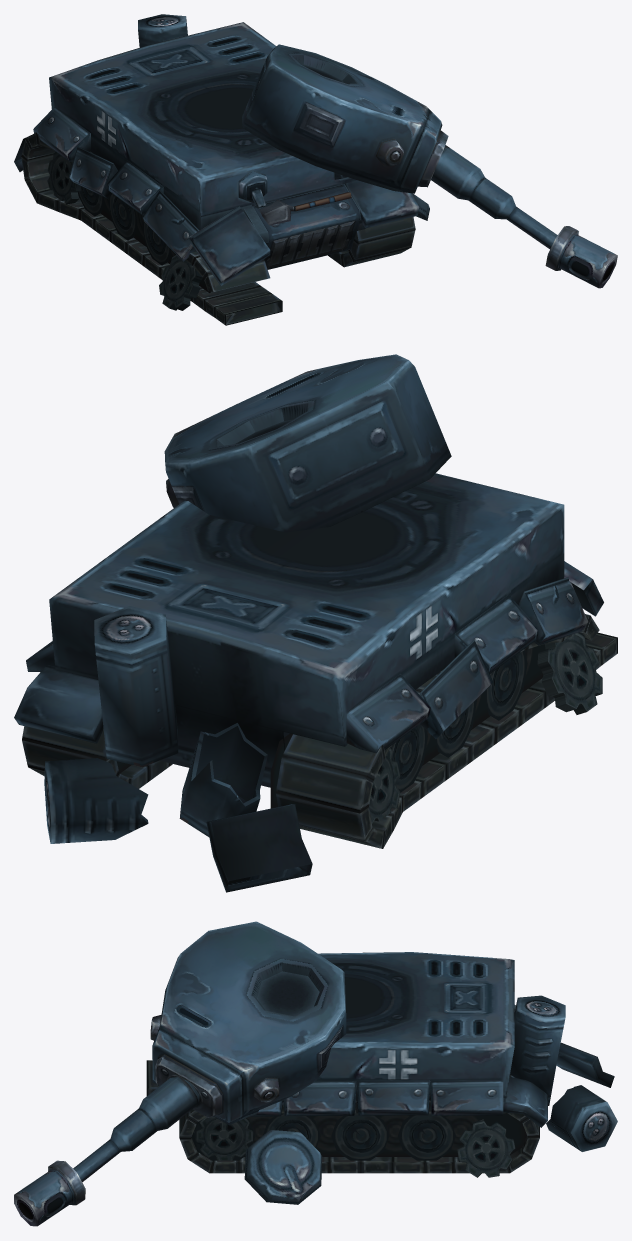
The model's file is T_tank_break_01.fbx.
3 renders of one model, top to bottom at view 1: azimuth 30°, elevation 25°; view 2: azimuth 150°, elevation 25°; view 3: azimuth 270°, elevation 25°, orthographic. The views are drawn at different scales.
Parts seen in each view (by area): view 1: T_tank_break_01; view 2: T_tank_break_01; view 3: T_tank_break_01.
Boxes of the visible parts, <box> form: T_tank_break_01: <box>14,14,617,325</box>; T_tank_break_01: <box>14,354,617,892</box>; T_tank_break_01: <box>14,921,617,1226</box>.
Bounding box in the file's own units: 504 × 276 × 731.
Materials: 1 (1 with a texture image).
